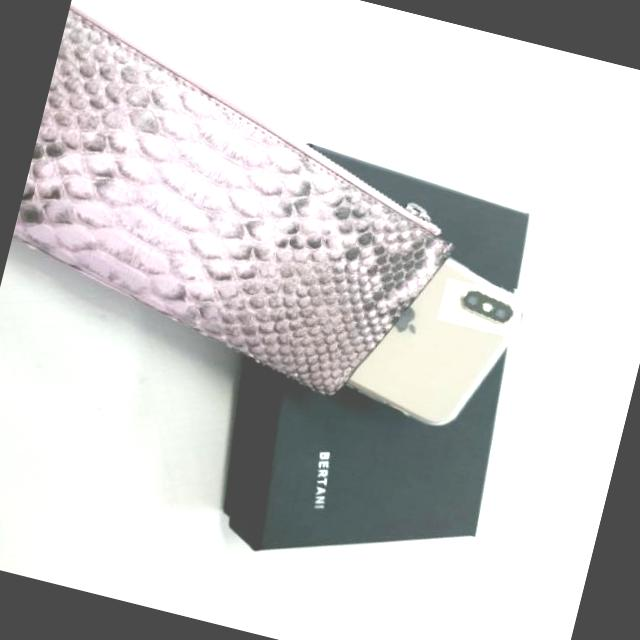lens_back: (487, 300, 511, 325), (463, 290, 481, 312)
phone: (335, 241, 537, 445)
